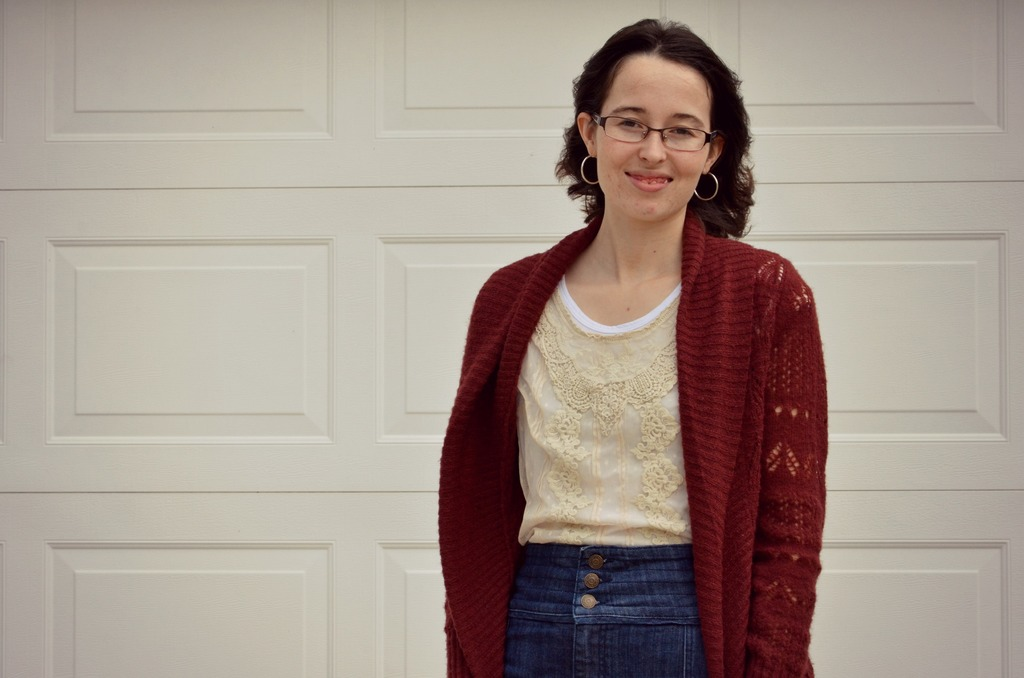Person: (437, 15, 828, 678)
